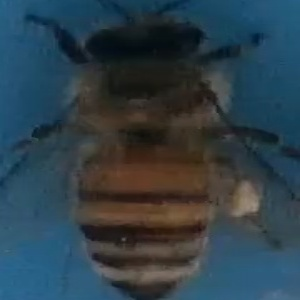bee: (38, 3, 290, 300)
